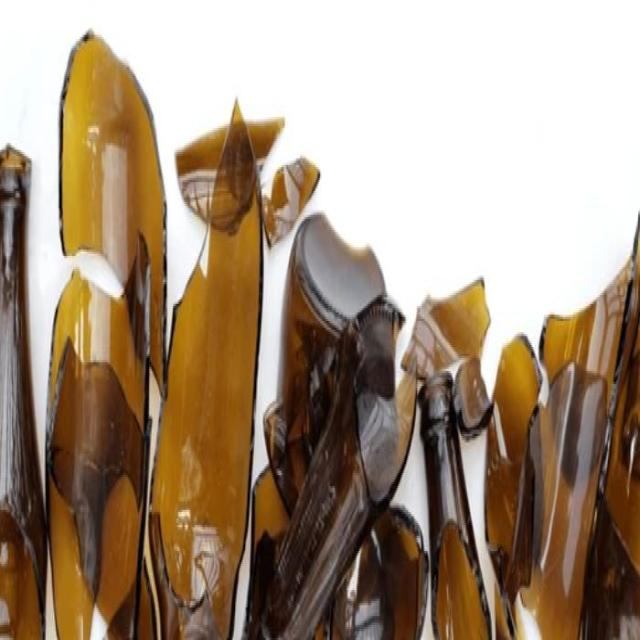electronic: (43, 26, 168, 640), (146, 91, 264, 640), (246, 207, 392, 640), (260, 295, 418, 640), (511, 357, 606, 640), (0, 126, 47, 640), (418, 362, 493, 640), (482, 327, 542, 640), (399, 276, 492, 398)
